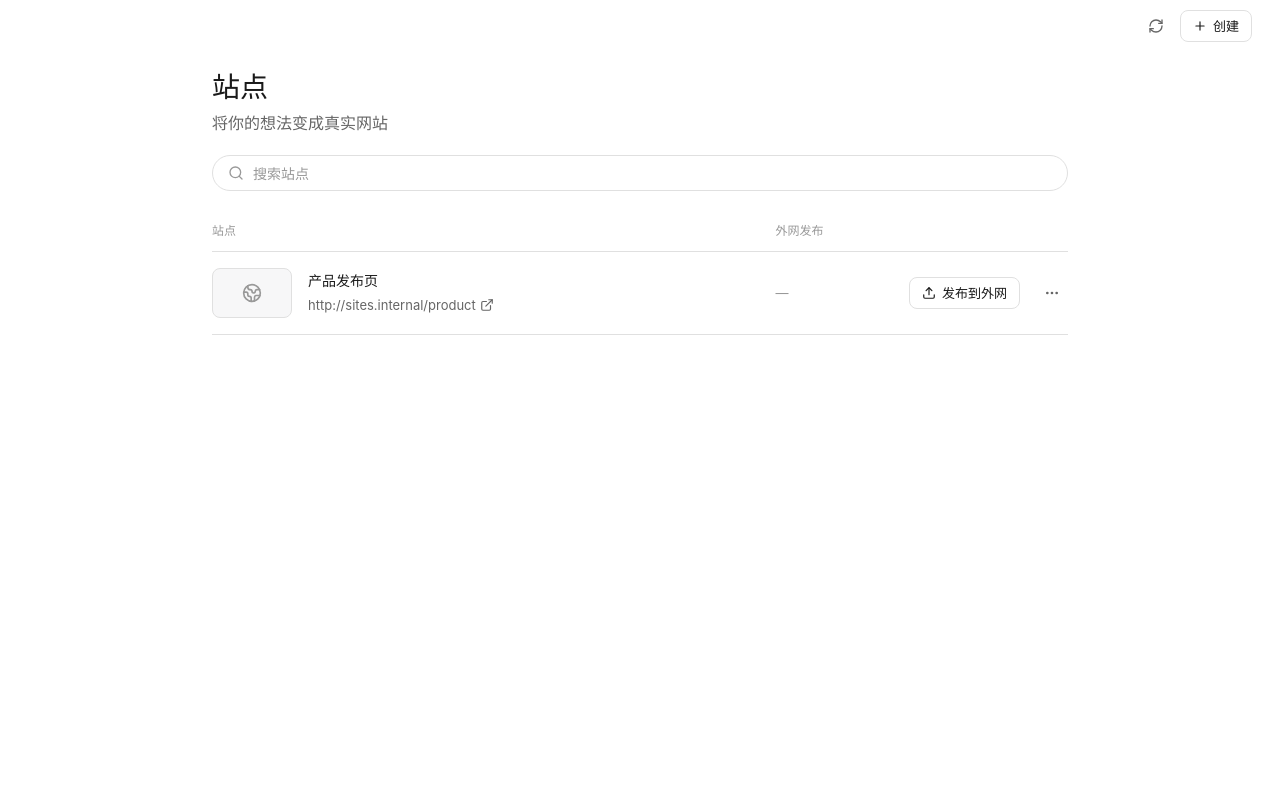
Test case: SitesWorkspace › keeps the row and dialog open when deletion fails so it can be retried
Expected: the heading "产品发布页" is shown, [308,272,378,289]
Click the button with test id "site-more-site-1": (1052, 293) [1036,277,1068,309]
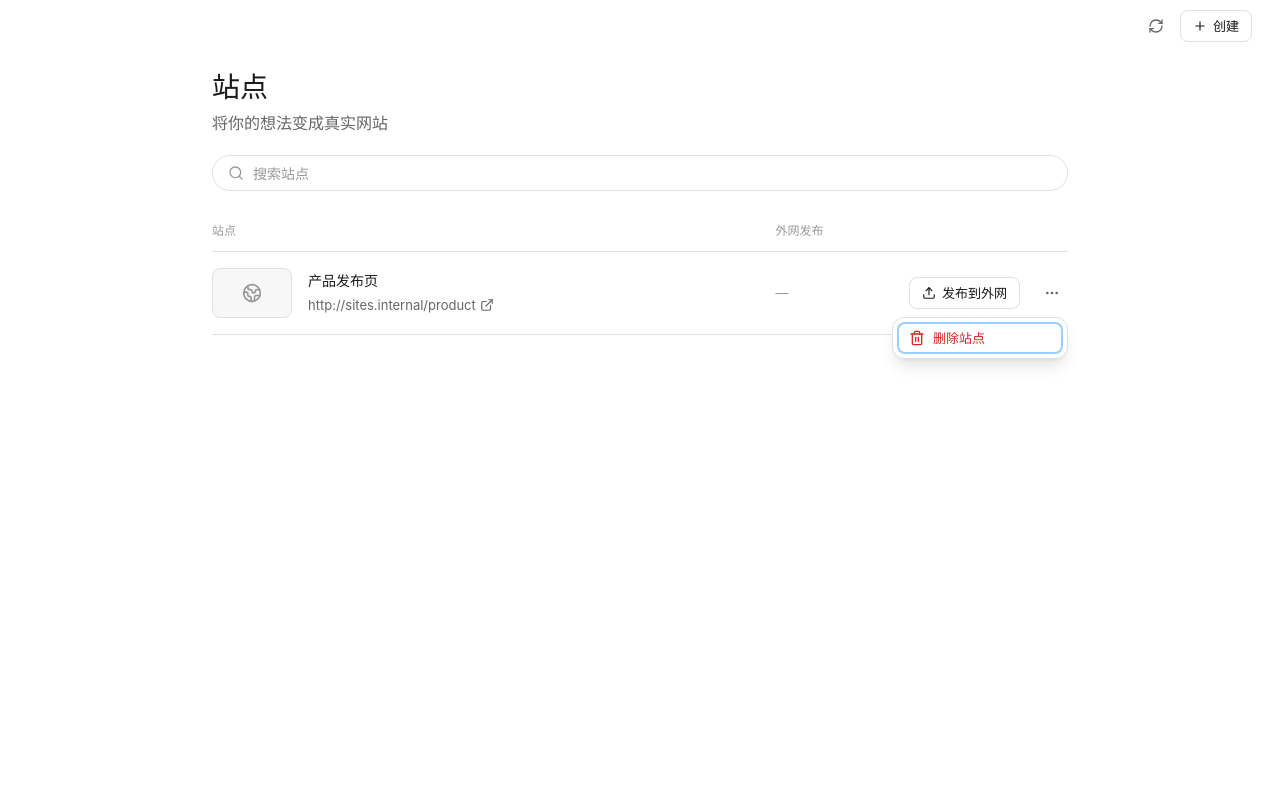
Click the menu item with test id "site-delete-menu-item-site-1": (980, 338) [897,322,1063,354]
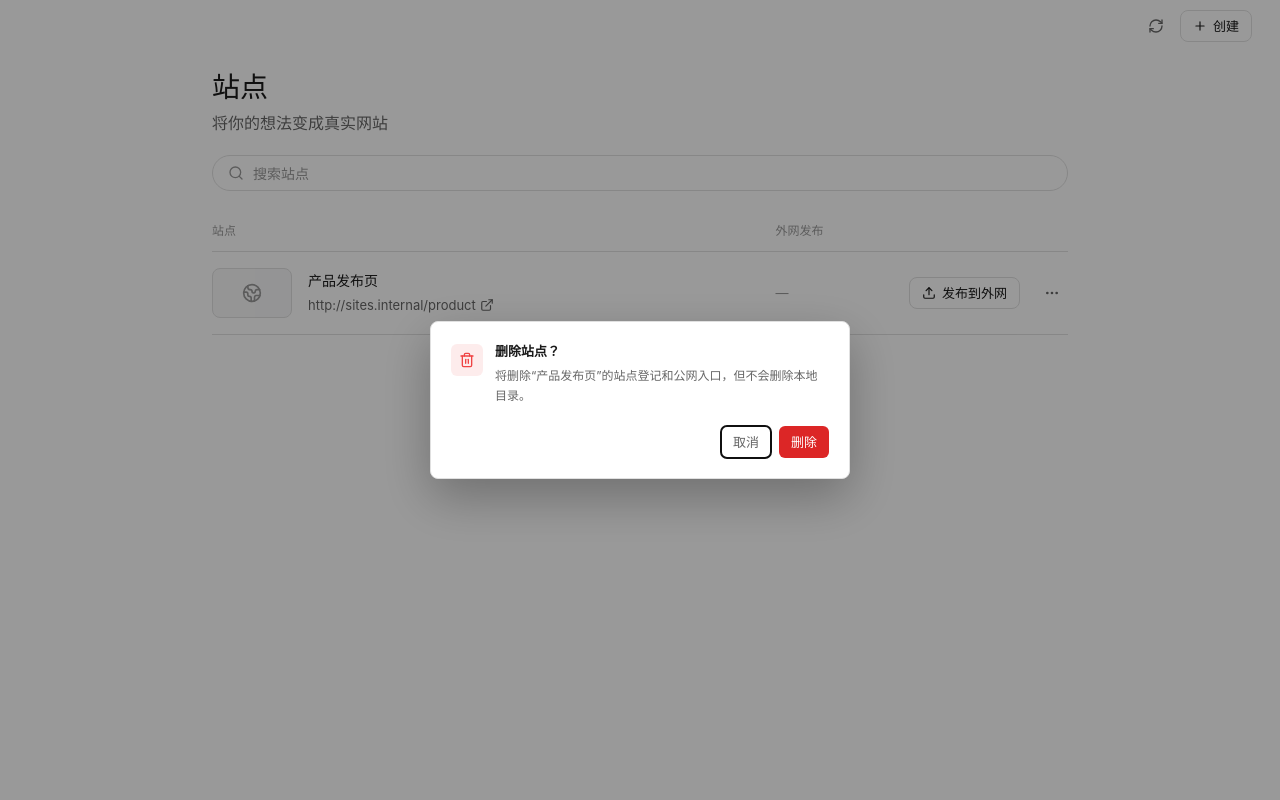
Click the button with test id "site-delete-confirm-button": (804, 442) [779,426,829,458]
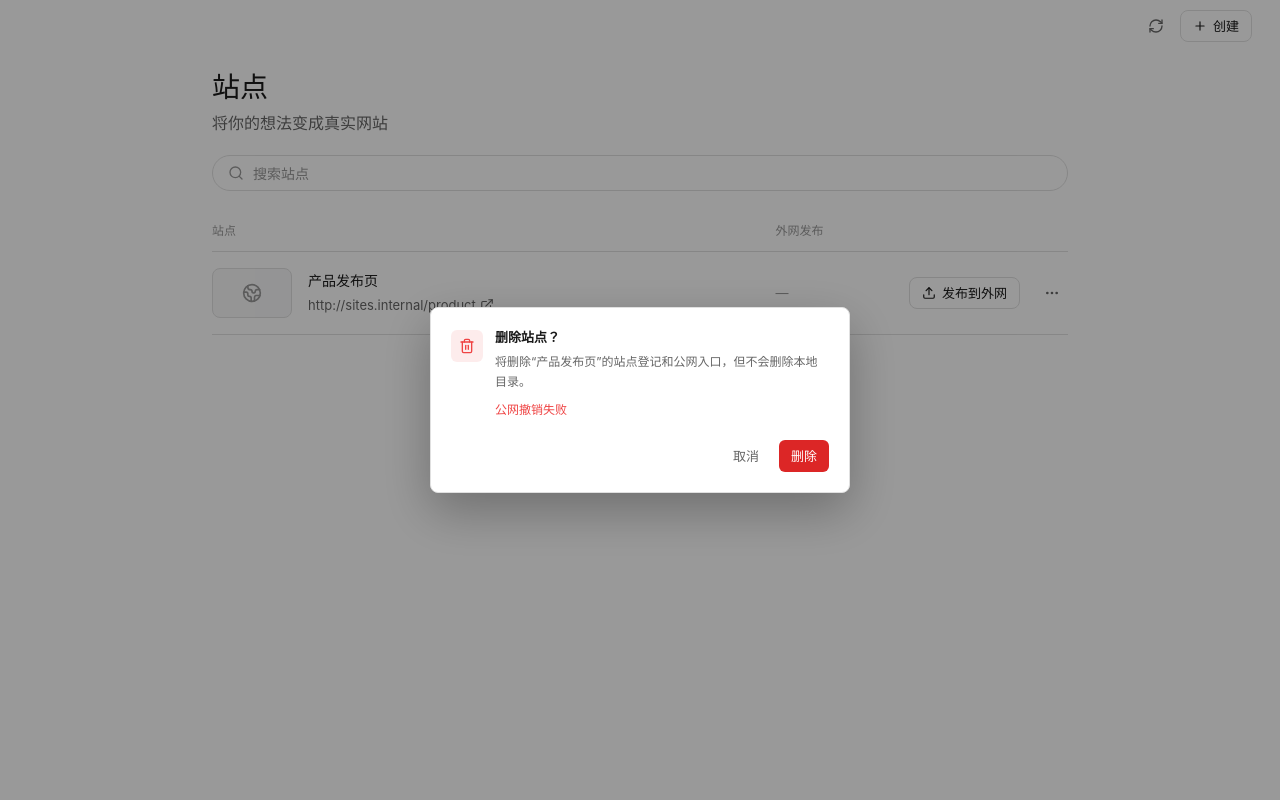
Expected: the element with test id "site-row-site-1" is shown, [212,252,1068,335]
Expected: the dialog with test id "site-delete-dialog" is shown, [430,307,850,493]
Expected: the message reads "公网撤销失败", [495,402,567,417]
